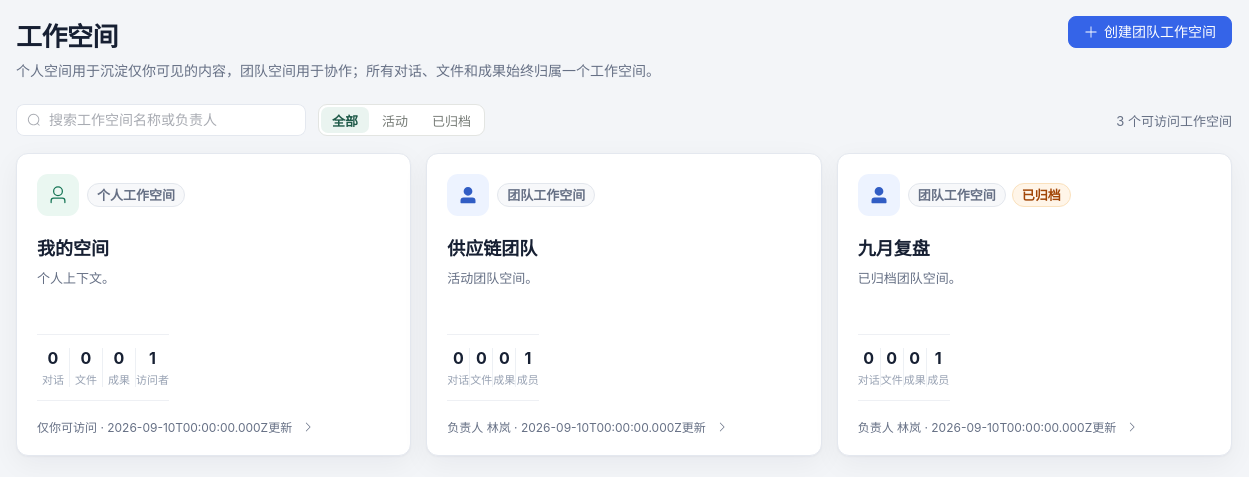
WorkspacesView 归档筛选与归档卡片（design §2.1 / §6） › returns to 全部 by clearing the route query
The width and height of the screenshot is (1249, 477).
Click the tab with test id "workspace-filter-archived" at (452, 120), box [421,107,482,133]
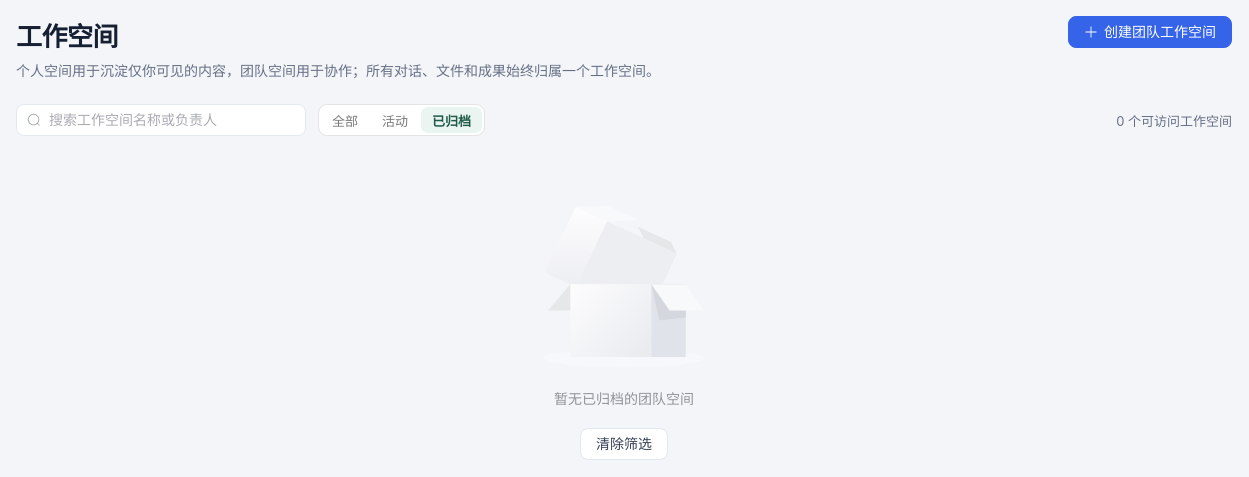
Click the tab with test id "workspace-filter-all" at (345, 120), box [321,107,369,133]
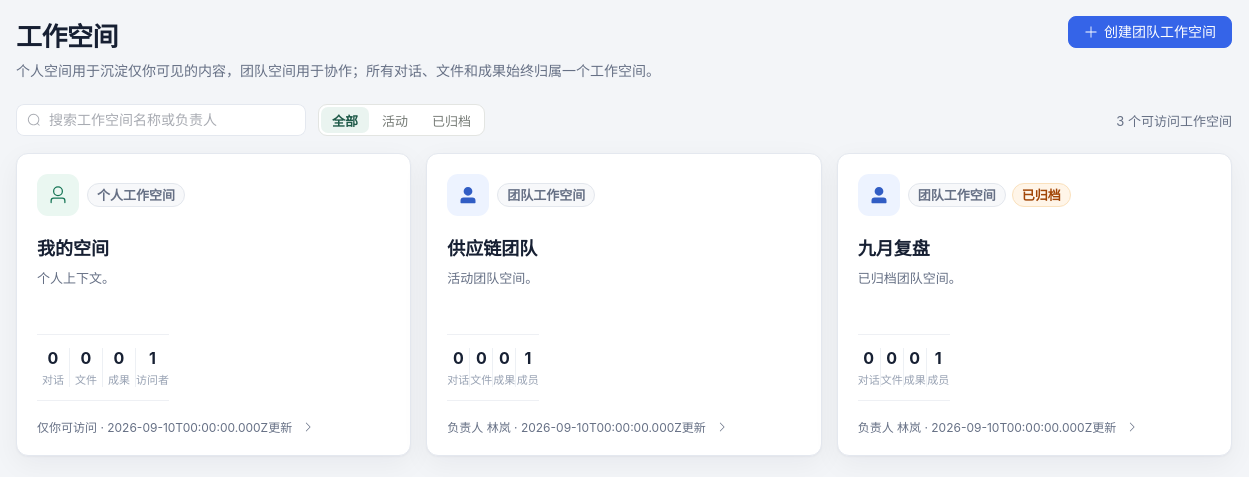
Expected: the text "3 个可访问工作空间" is shown, [1116,111,1232,130]
